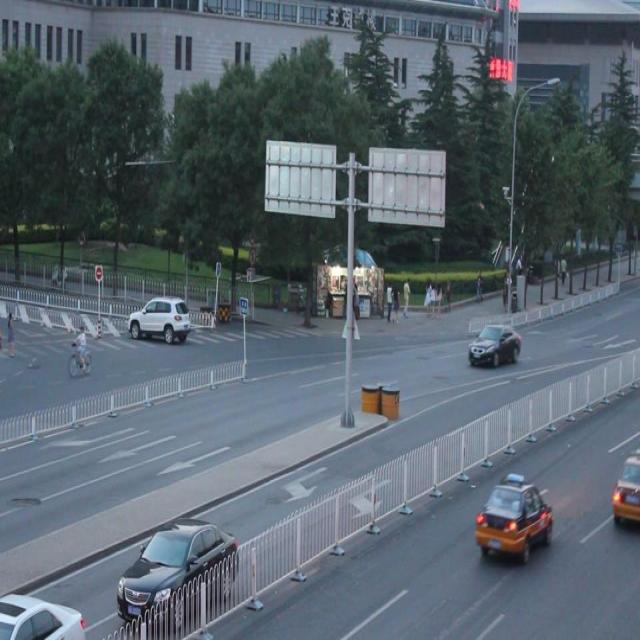car: (116, 516, 238, 622), (473, 477, 551, 559), (0, 586, 86, 640), (127, 292, 190, 344), (607, 446, 640, 526), (468, 318, 520, 367)
